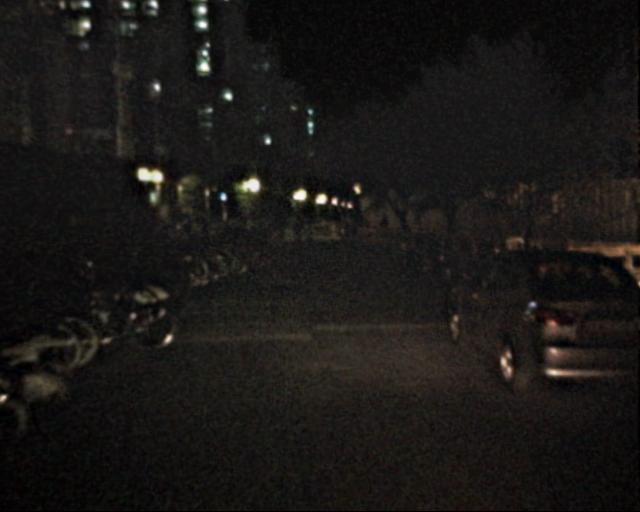person: (237, 209, 268, 233), (286, 208, 301, 244), (269, 208, 284, 244), (377, 213, 391, 246), (180, 216, 192, 246), (160, 216, 172, 246), (196, 218, 207, 246)
